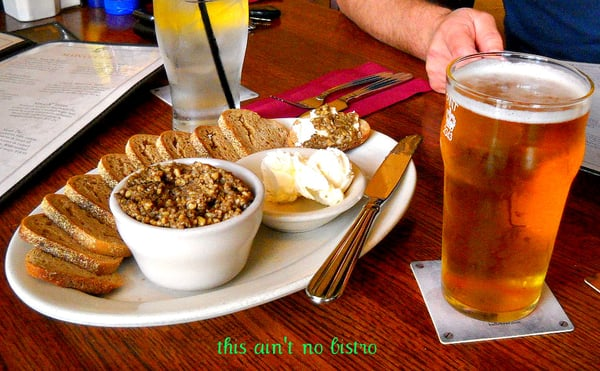sandwich: (306, 133, 421, 305)
soup: (18, 186, 131, 296)
sushi: (108, 157, 265, 293), (235, 146, 367, 234)
